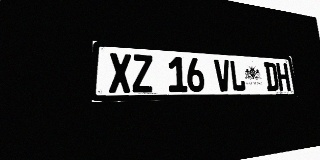1: (167, 56, 187, 92)
6: (186, 57, 205, 92)
D: (264, 62, 279, 91)
H: (276, 63, 291, 91)
L: (229, 60, 246, 91)
V: (214, 59, 232, 92)
X: (109, 53, 132, 93)
Z: (132, 54, 153, 93)
